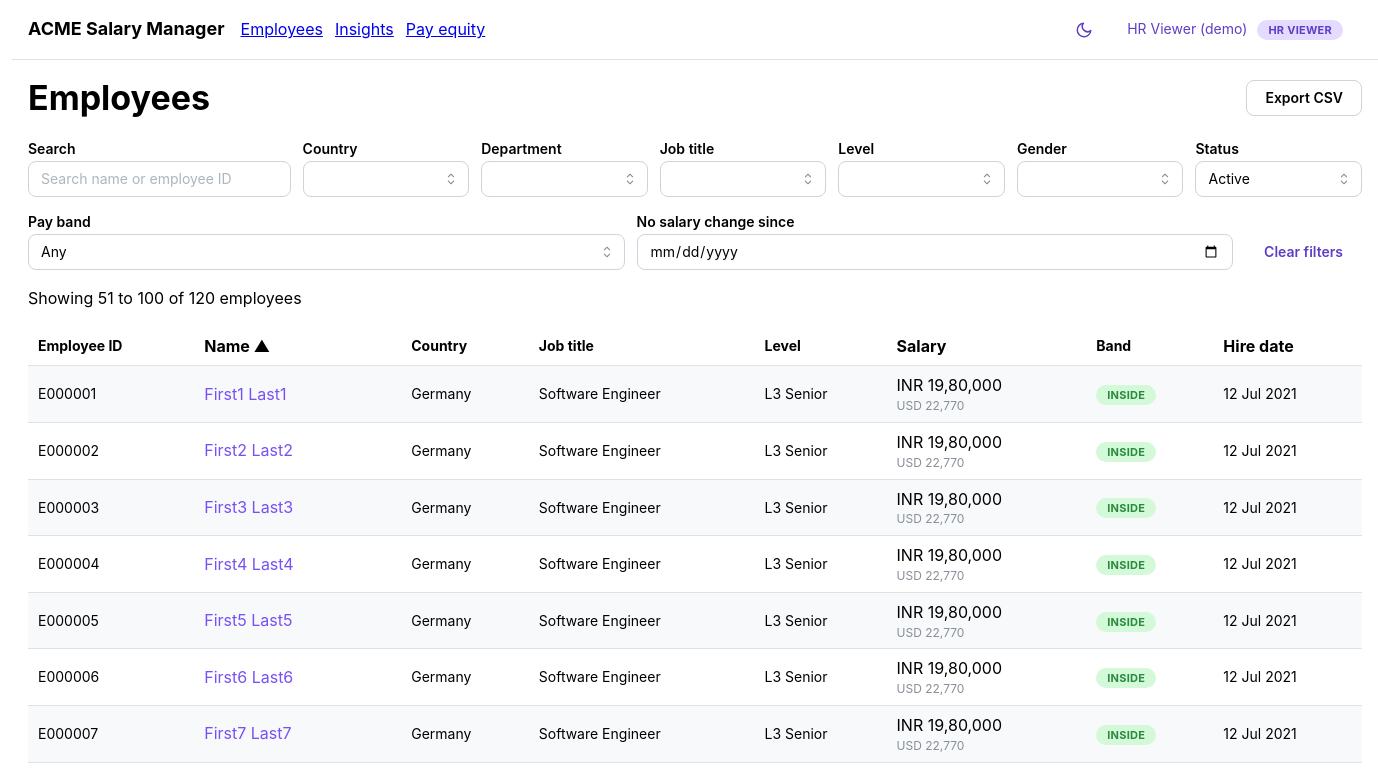
Test: employee list filters (04 sections 8.3 and 8.5) › changing a filter updates the URL, resets the page to 1 and requests the new query
Expected: the text "Showing 51 to 100 of 120 employees" is shown, [28,288,302,308]
Click the dropdown labelled "Country" at (330, 149), box [303,138,358,160]
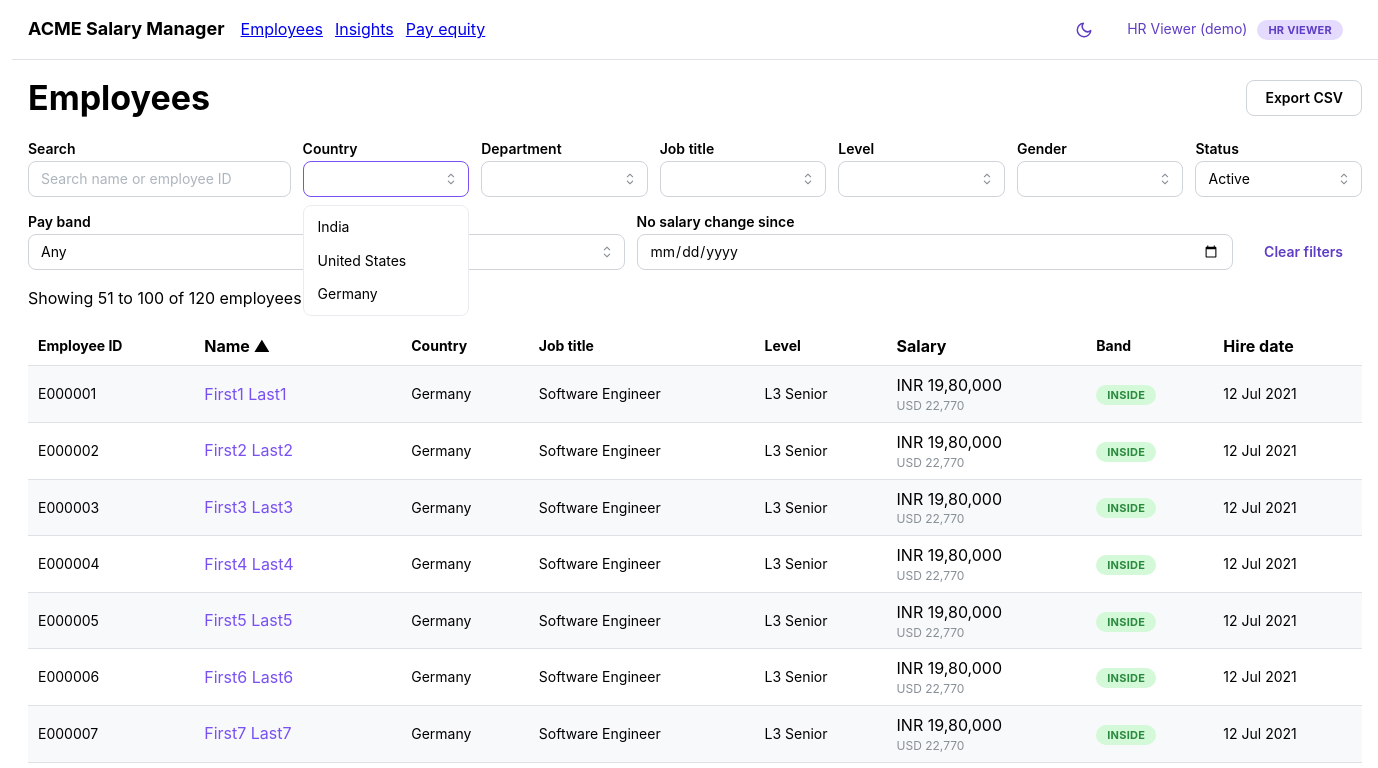
Click the option "India" at (334, 226), box [318,218,350,235]
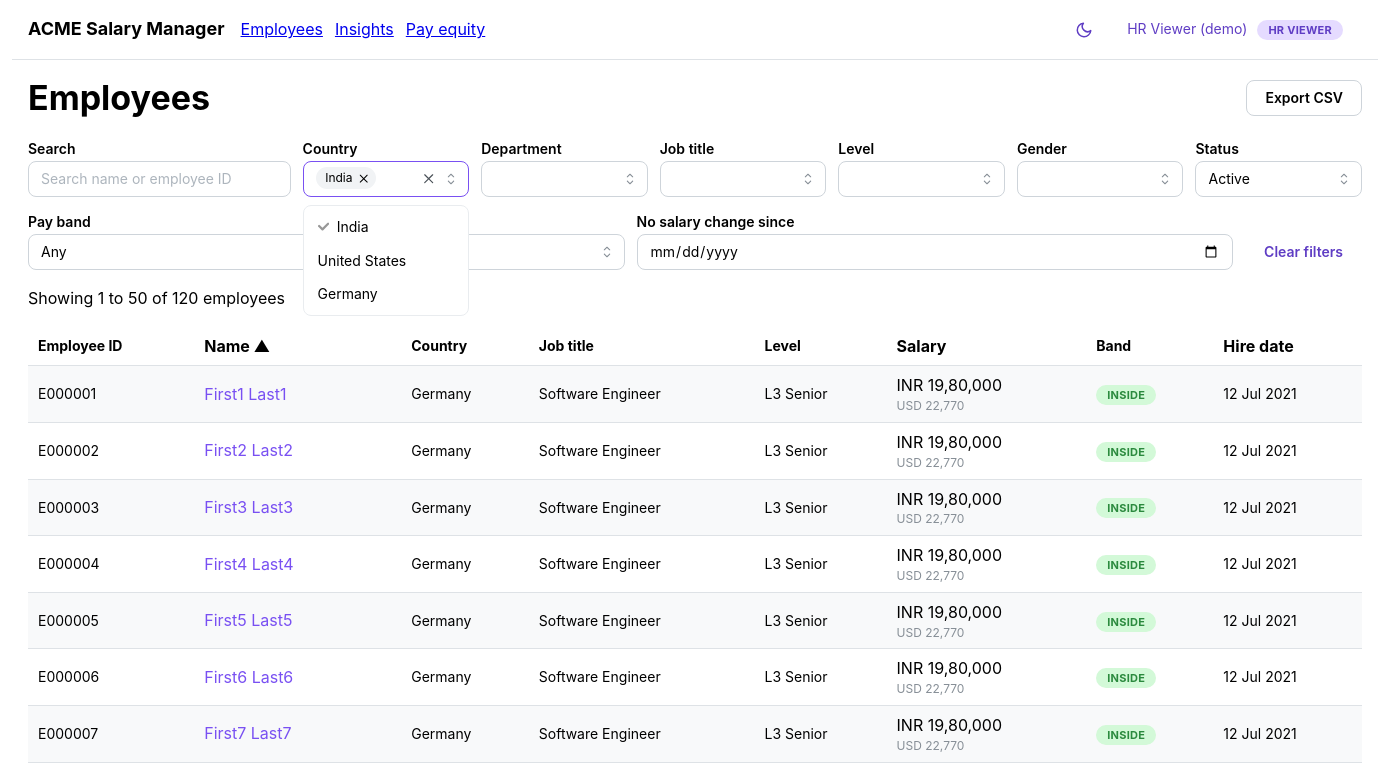
Click the dropdown labelled "Status" at (1279, 179), box [1196,161,1362,197]
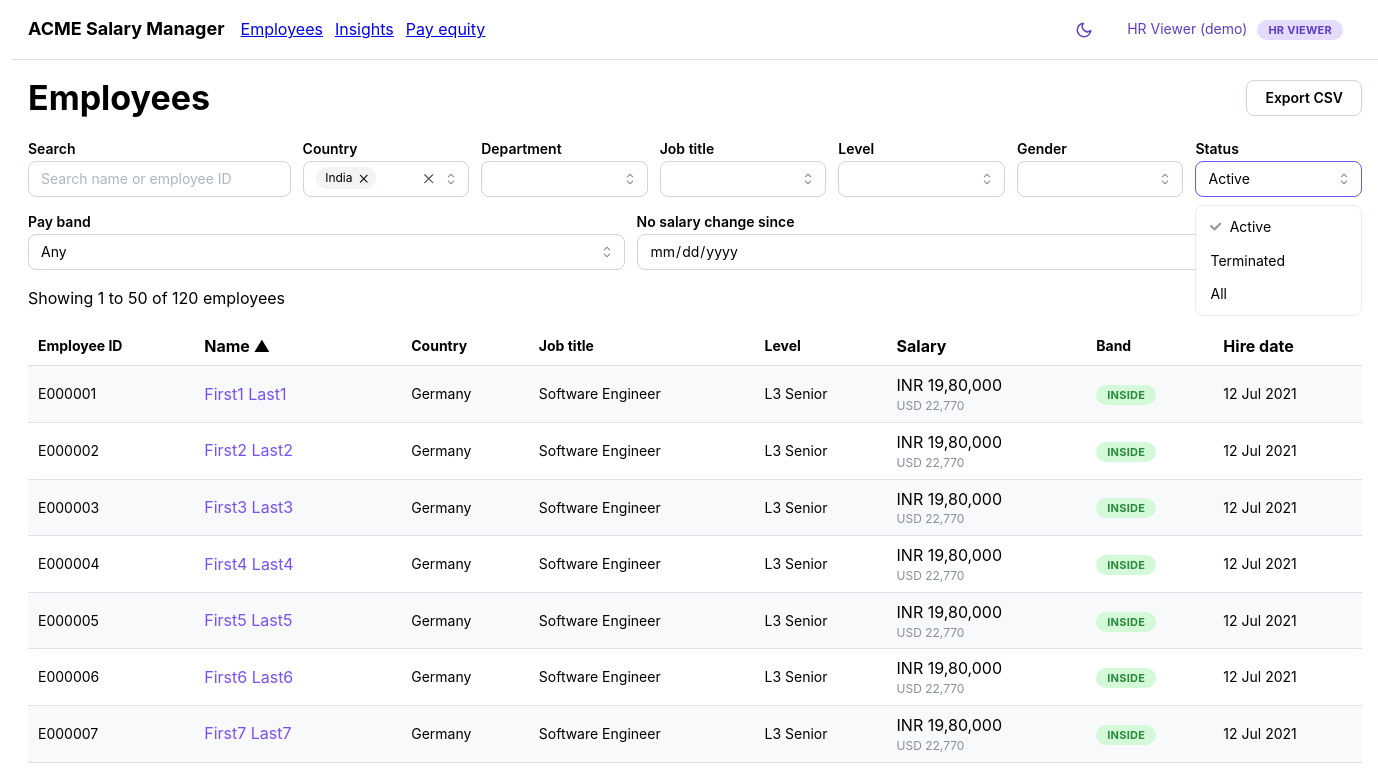
Click the option "Terminated" at (1248, 260), box [1210,252,1285,269]
(page scrolled)
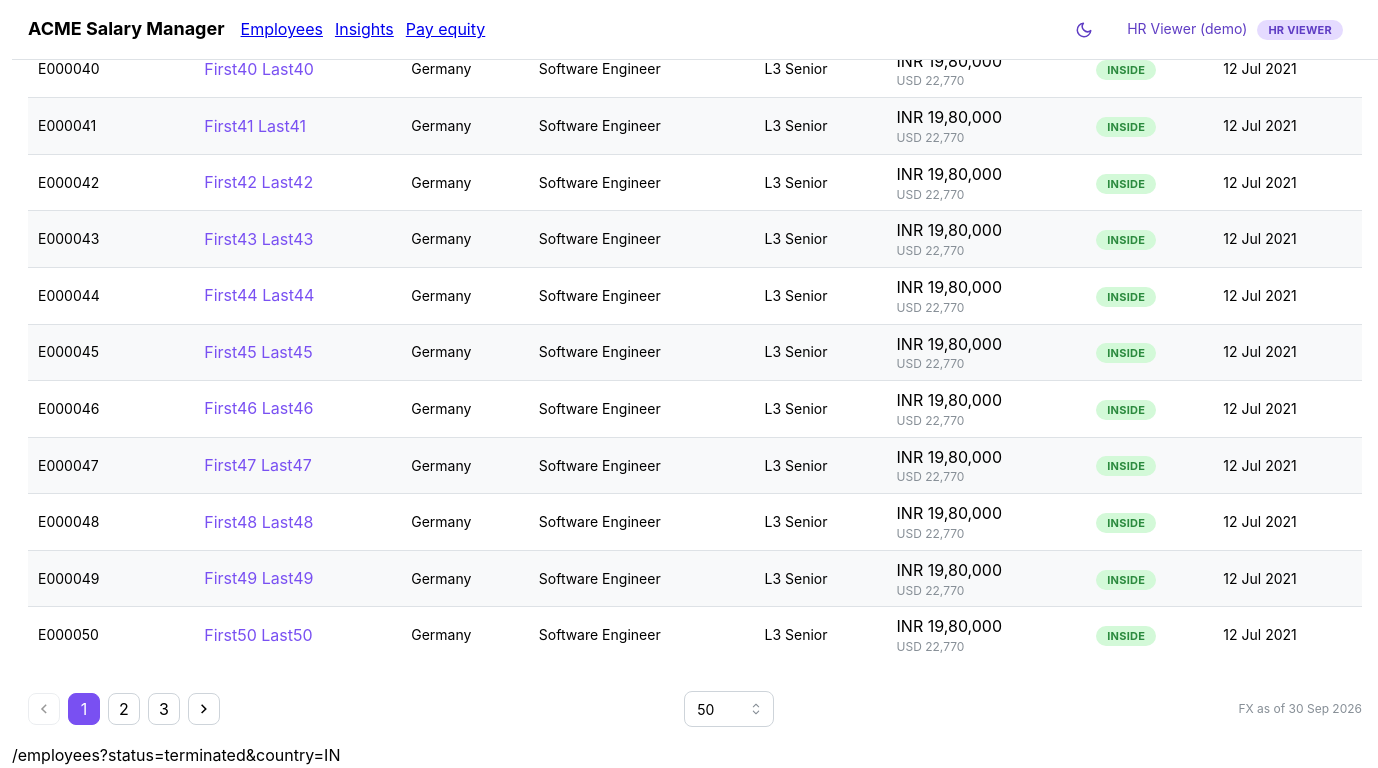
Expected: the text named "location" reads "/employees?status=terminated&country=IN", [12,745,340,765]
